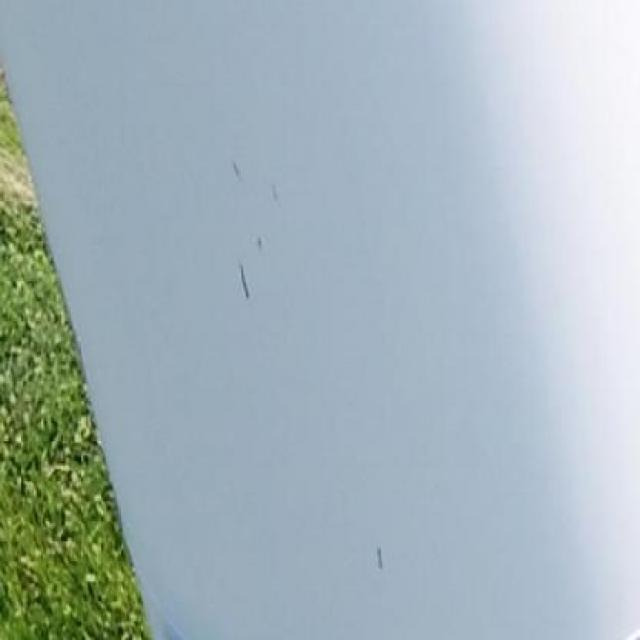Coating_defects: (375, 545, 383, 569), (232, 160, 240, 182), (257, 235, 265, 253), (272, 183, 276, 202)
Crack: (238, 261, 250, 304)
